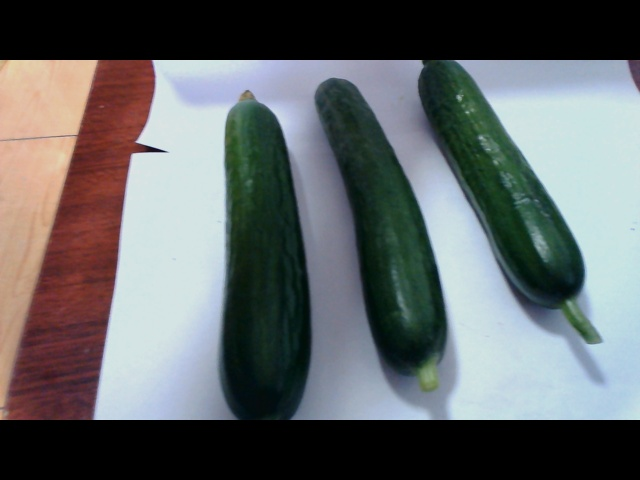cucumber: (417, 57, 591, 321), (311, 82, 445, 385), (213, 91, 312, 420)
